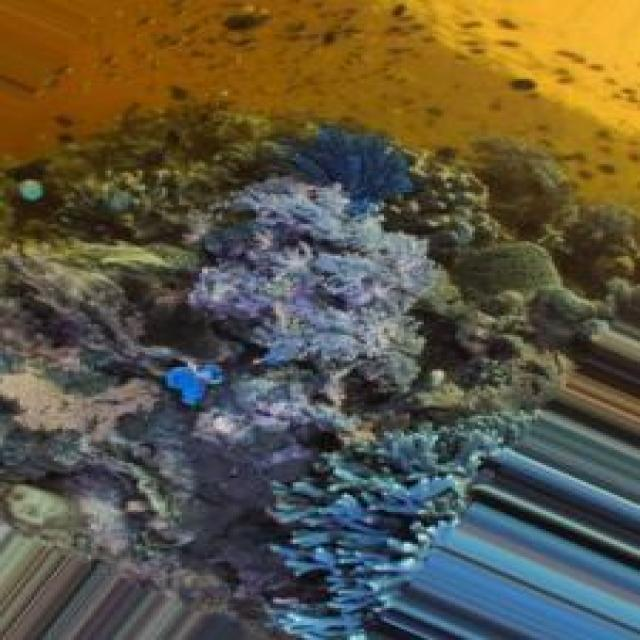Healthy: (1, 103, 640, 640)
